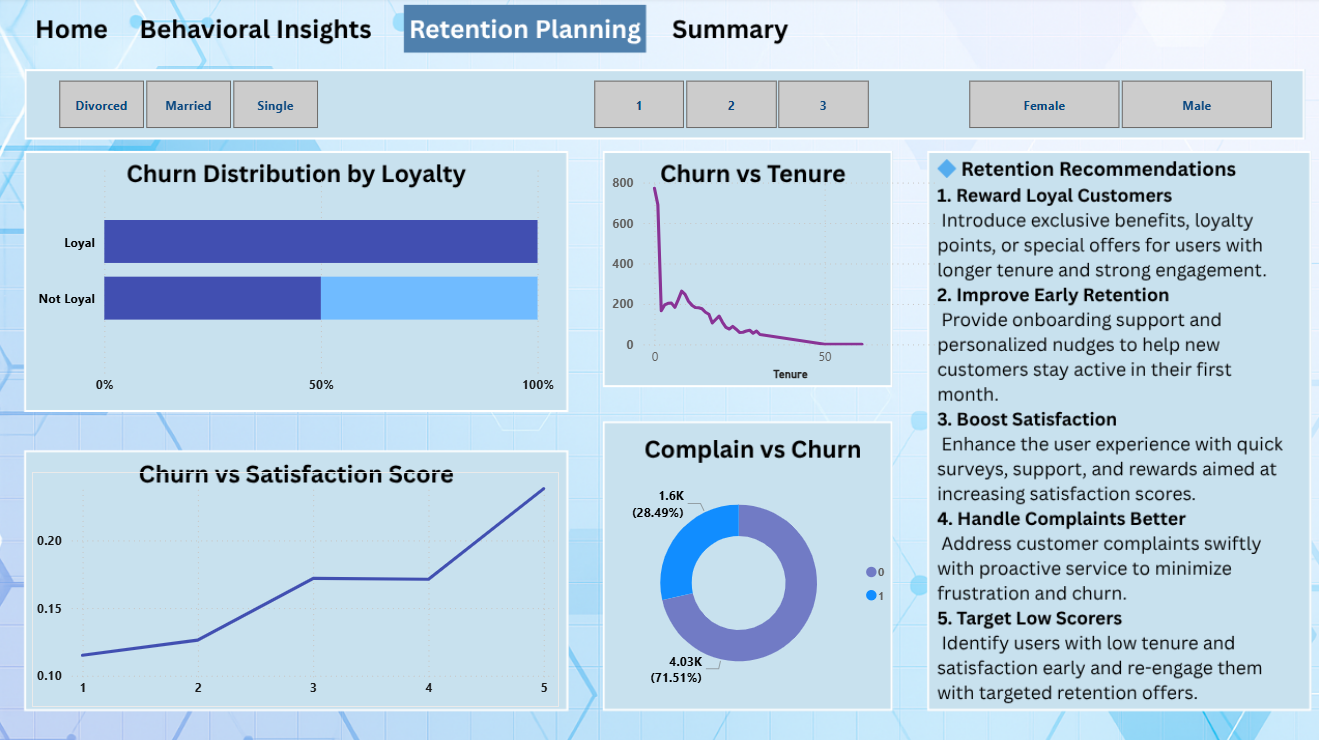

The page's visual inventory and layout, read from the dashboard file:
{"tool":"powerbi","page":{"name":"Retention Planning","canvas":[1280,720],"ordinal":2},"visuals":[{"type":"actionButton","box":[22,12.3,100.2,39.8],"z":0},{"type":"actionButton","box":[646.3,12.3,122.1,39.8],"z":1000},{"type":"actionButton","box":[131.5,12.1,236.5,39.8],"z":2000},{"type":"hundredPercentStackedBarChart","fields":{"Series":["cleaned_churn_data.Churn"],"Category":["cleaned_churn_data.LoyaltyGroup"],"Y":["cleaned_churn_data.ChurnRateByLoyalty"]},"box":[33.8,153.2,509.1,238.9],"z":3000},{"type":"lineChart","fields":{"Category":["cleaned_churn_data.SatisfactionScore"],"Y":["cleaned_churn_data.ChurnRateBySatisfaction"]},"box":[33.8,458.4,509.1,226.8],"z":4000},{"type":"lineChart","fields":{"Category":["cleaned_churn_data.Tenure"],"Y":["CountNonNull(cleaned_churn_data.Churn)"]},"box":[588.8,165,323.8,210],"z":5000},{"type":"donutChart","fields":{"Category":["cleaned_churn_data.Complain"],"Y":["CountNonNull(cleaned_churn_data.Churn)"]},"box":[588.8,446.2,282.5,238.8],"z":6000},{"type":"slicer","fields":{"Values":["cleaned_churn_data.CityTier"]},"box":[550,73.8,315,60],"z":7000},{"type":"slicer","fields":{"Values":["cleaned_churn_data.MaritalStatus"]},"box":[33.8,73.8,300,60],"z":8000},{"type":"slicer","fields":{"Values":["cleaned_churn_data.Gender"]},"box":[912.5,73.8,342.5,60],"z":9000}]}

Visuals, with their boxes in screenshot pixels (x1, y1, x2, y2), scaled from the page's 1280x720 canvas onto the 1319x740 screenshot:
actionButton: 23 13 126 54
actionButton: 666 13 792 54
actionButton: 136 12 379 53
hundredPercentStackedBarChart - cleaned_churn_data.Churn x cleaned_churn_data.LoyaltyGroup: 35 157 559 403
lineChart - cleaned_churn_data.SatisfactionScore x cleaned_churn_data.ChurnRateBySatisfaction: 35 471 559 704
lineChart - cleaned_churn_data.Tenure x CountNonNull(cleaned_churn_data.Churn): 607 170 940 385
donutChart - cleaned_churn_data.Complain x CountNonNull(cleaned_churn_data.Churn): 607 459 898 704
slicer - cleaned_churn_data.CityTier: 567 76 891 138
slicer - cleaned_churn_data.MaritalStatus: 35 76 344 138
slicer - cleaned_churn_data.Gender: 940 76 1293 138
